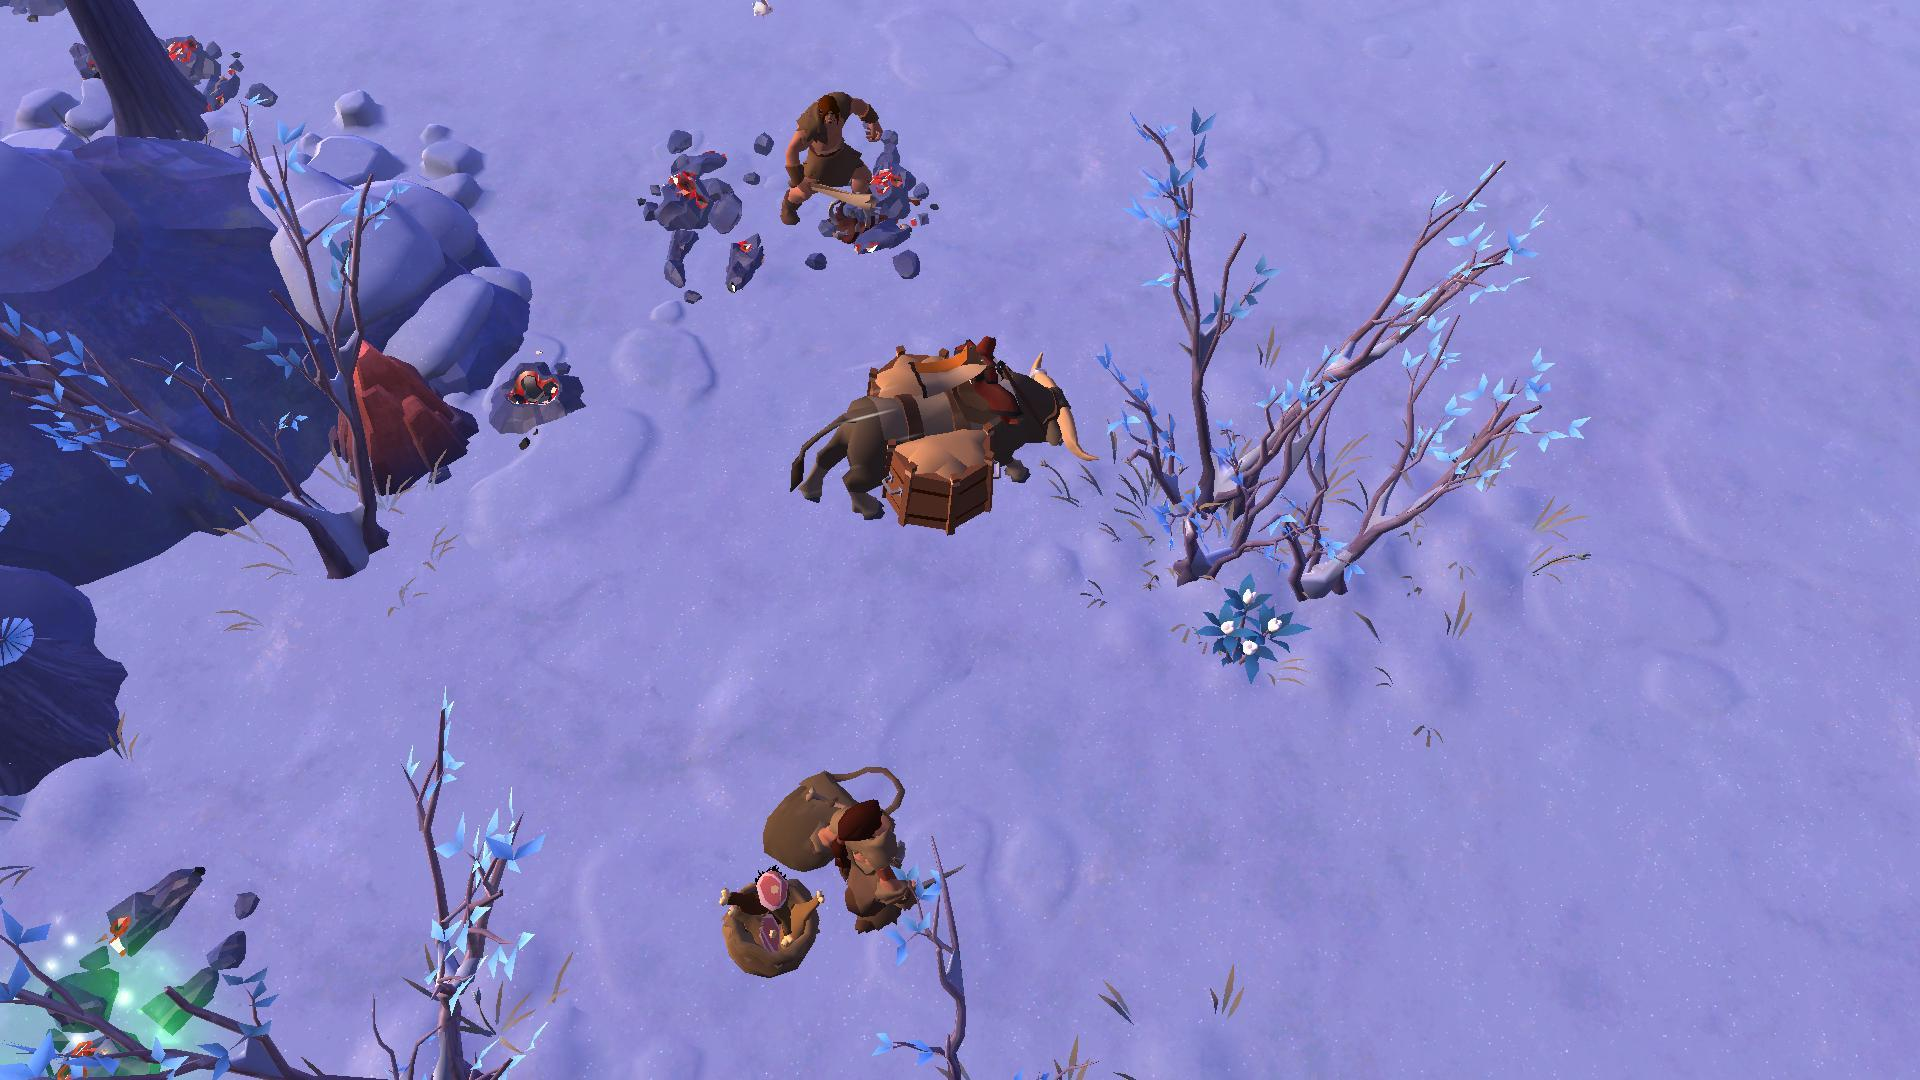enemy_factionKeeper: (775, 84, 889, 224)
fiber_t4: (1192, 575, 1311, 678)
rock_t5: (324, 336, 476, 488)
